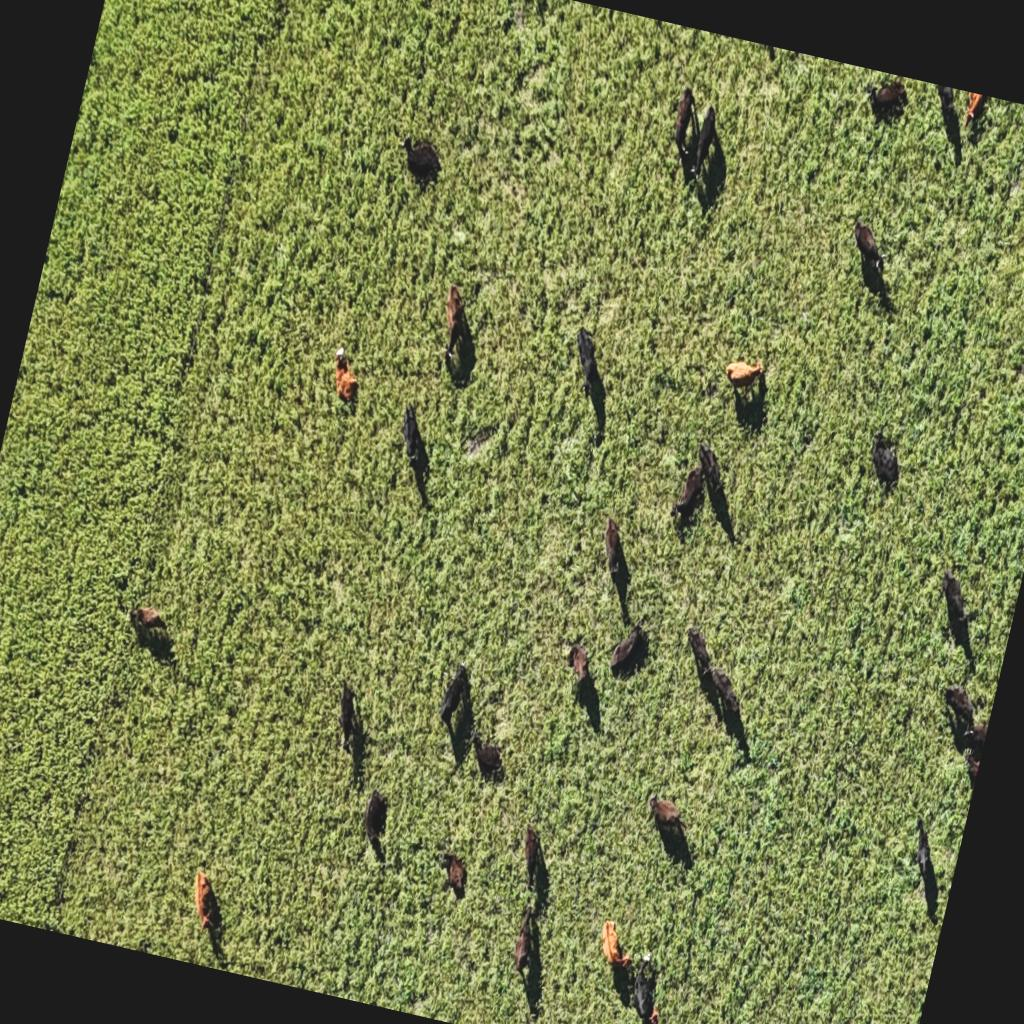cow: (431, 282, 480, 367), (562, 328, 611, 406), (182, 868, 230, 938), (843, 220, 893, 284), (930, 569, 977, 637), (328, 682, 370, 757), (435, 662, 477, 734), (862, 429, 908, 493), (934, 676, 982, 736), (606, 619, 650, 684), (688, 103, 723, 183), (718, 353, 766, 410), (668, 462, 708, 530), (393, 132, 445, 184), (594, 516, 632, 584), (624, 953, 662, 1021), (678, 624, 720, 684), (906, 818, 944, 884), (694, 444, 734, 506), (642, 792, 690, 842), (741, 364, 776, 432), (326, 344, 367, 402), (358, 788, 395, 852), (392, 402, 428, 466), (429, 848, 473, 899), (464, 732, 507, 784), (509, 904, 541, 973), (132, 617, 178, 665), (594, 918, 636, 970), (513, 824, 547, 888), (699, 666, 741, 716), (559, 640, 595, 694), (444, 338, 480, 392), (868, 74, 910, 120), (126, 601, 171, 640), (670, 85, 698, 146), (956, 715, 990, 761), (680, 134, 708, 185), (411, 438, 439, 488), (690, 439, 718, 486), (928, 84, 961, 120), (958, 92, 986, 134), (462, 428, 492, 462), (572, 326, 600, 362), (960, 752, 981, 797), (635, 1005, 683, 1024), (938, 567, 963, 600), (667, 490, 686, 528), (330, 342, 352, 374), (450, 660, 472, 690), (912, 816, 932, 848), (436, 850, 455, 874), (645, 789, 660, 819), (870, 428, 886, 456), (402, 400, 420, 424), (864, 81, 880, 100)
